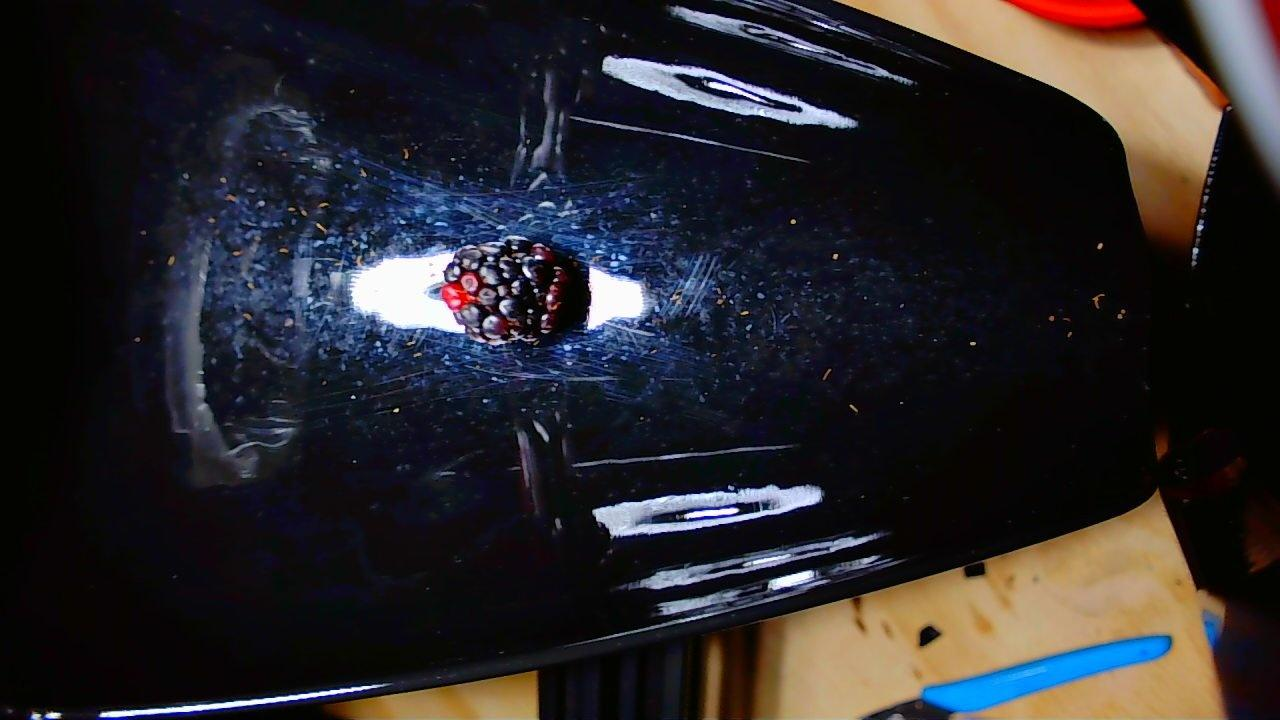berry: (441, 235, 585, 344)
